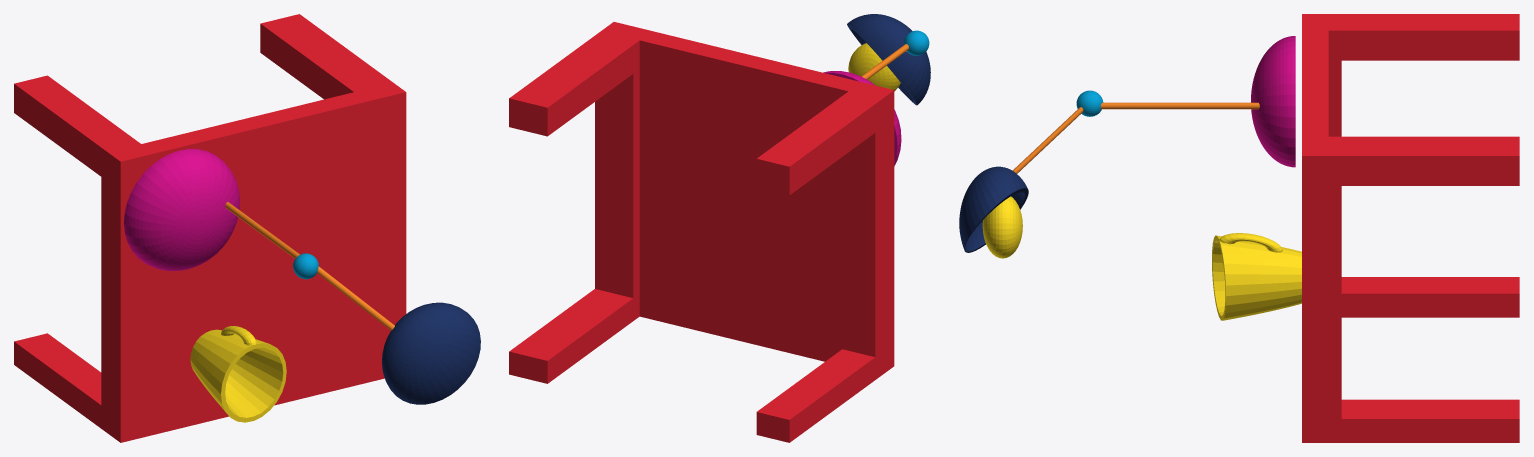
Rendered from tinker.obj.
3 views of the same model, side by side, from view 1: azimuth 30°, elevation 25°; view 2: azimuth 150°, elevation 25°; view 3: azimuth 270°, elevation 25° (orthographic). The views are drawn at different scales.
Visible parts, largest first — view 1: group_0_15277357, group_0_14093196, group_0_1650274, group_0_16768282, group_0_16089887, group_0_40919; view 2: group_0_15277357, group_0_1650274, group_0_16768282, group_0_14093196, group_0_40919; view 3: group_0_15277357, group_0_16768282, group_0_14093196, group_0_1650274, group_0_16089887, group_0_40919.
Part boxes in pixels (box(x1,y1,x2,y2)): group_0_15277357: box(14, 14, 406, 442); group_0_14093196: box(124, 149, 239, 270); group_0_1650274: box(382, 302, 480, 404); group_0_16768282: box(190, 326, 286, 422); group_0_16089887: box(225, 202, 394, 330); group_0_40919: box(293, 253, 318, 279); group_0_15277357: box(509, 22, 894, 442); group_0_1650274: box(847, 14, 930, 105); group_0_16768282: box(848, 43, 900, 91); group_0_14093196: box(823, 71, 901, 165); group_0_40919: box(904, 30, 929, 55); group_0_15277357: box(1302, 14, 1519, 442); group_0_16768282: box(982, 196, 1301, 320); group_0_14093196: box(1251, 36, 1295, 167); group_0_1650274: box(959, 166, 1028, 252); group_0_16089887: box(1012, 102, 1259, 173); group_0_40919: box(1076, 90, 1103, 116).
Bounding box in the file's own units: 51 × 48 × 85.
